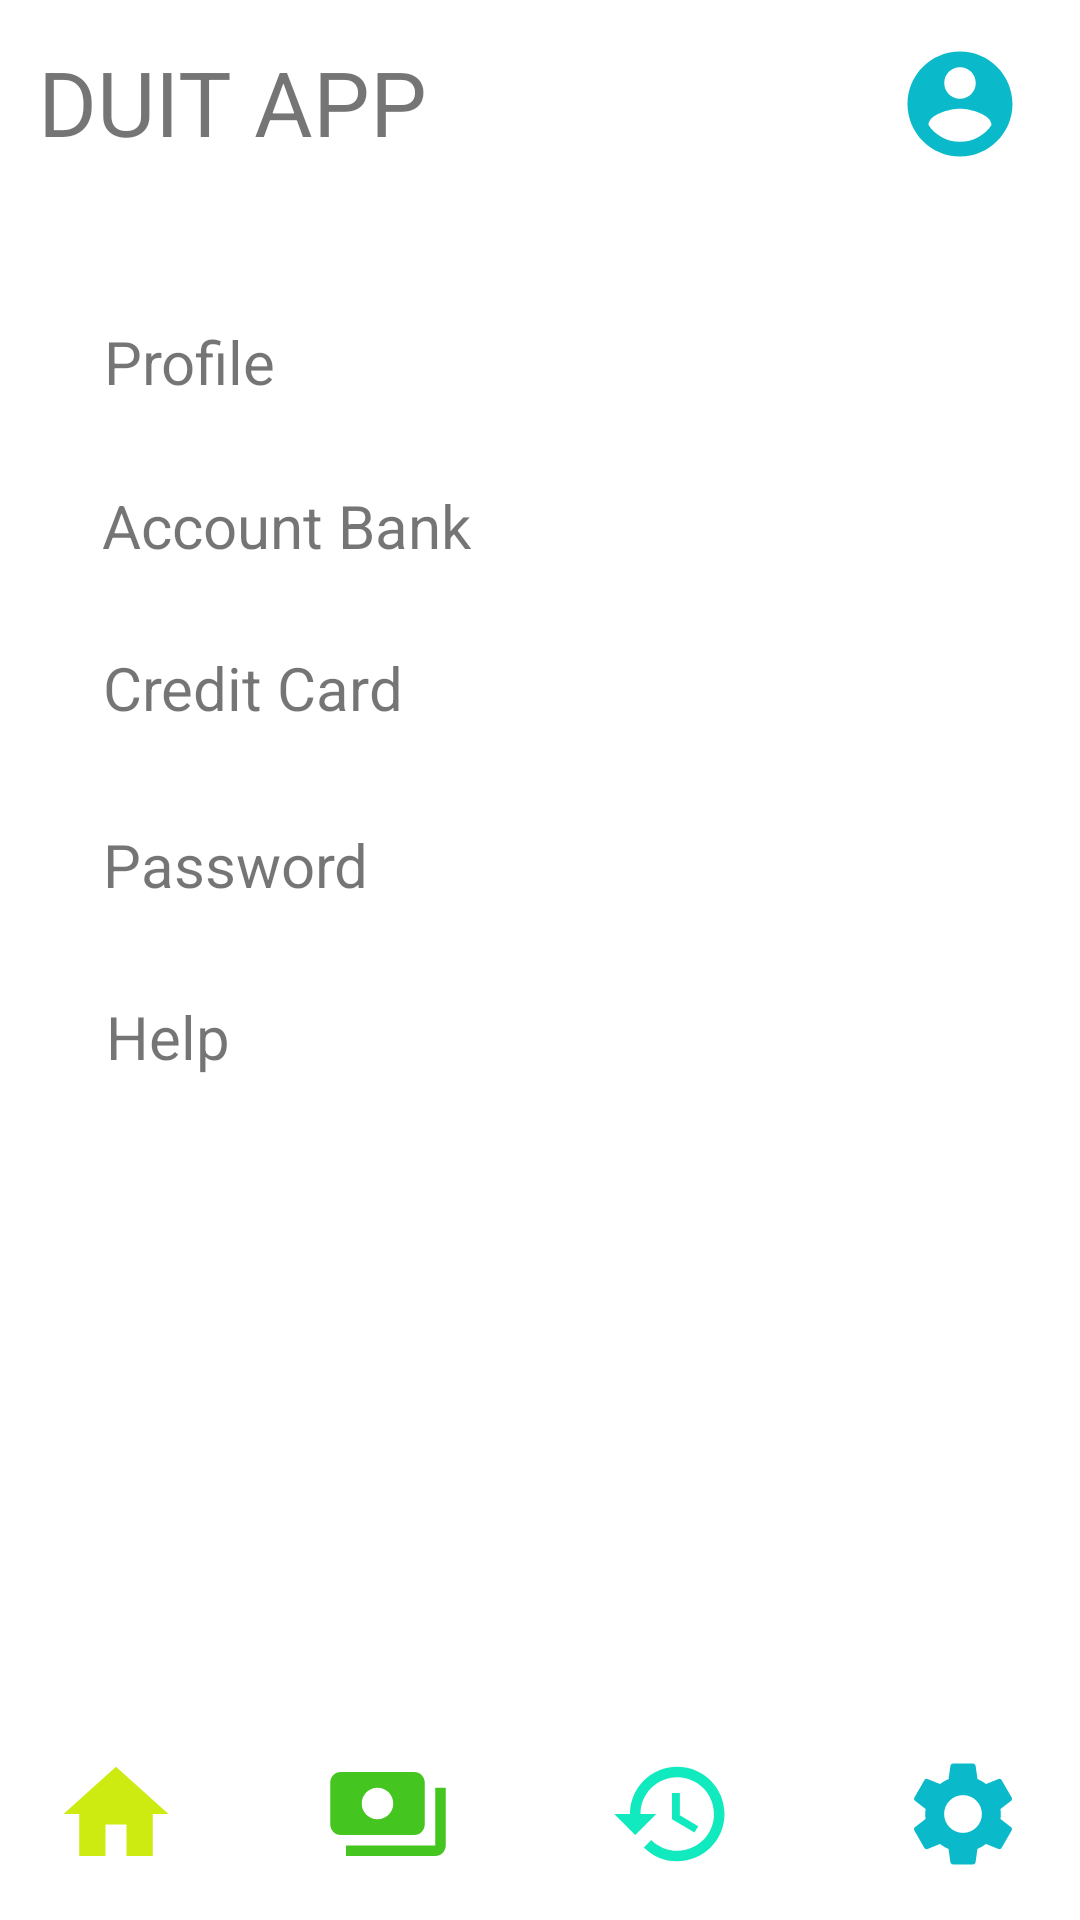

Icons on this 1080×1920 Android screen, each with the point to tap as (x=x, y=y):
account circle: (x=960, y=104)
history: (x=669, y=1814)
home: (x=116, y=1811)
payments: (x=388, y=1814)
settings: (x=963, y=1814)
